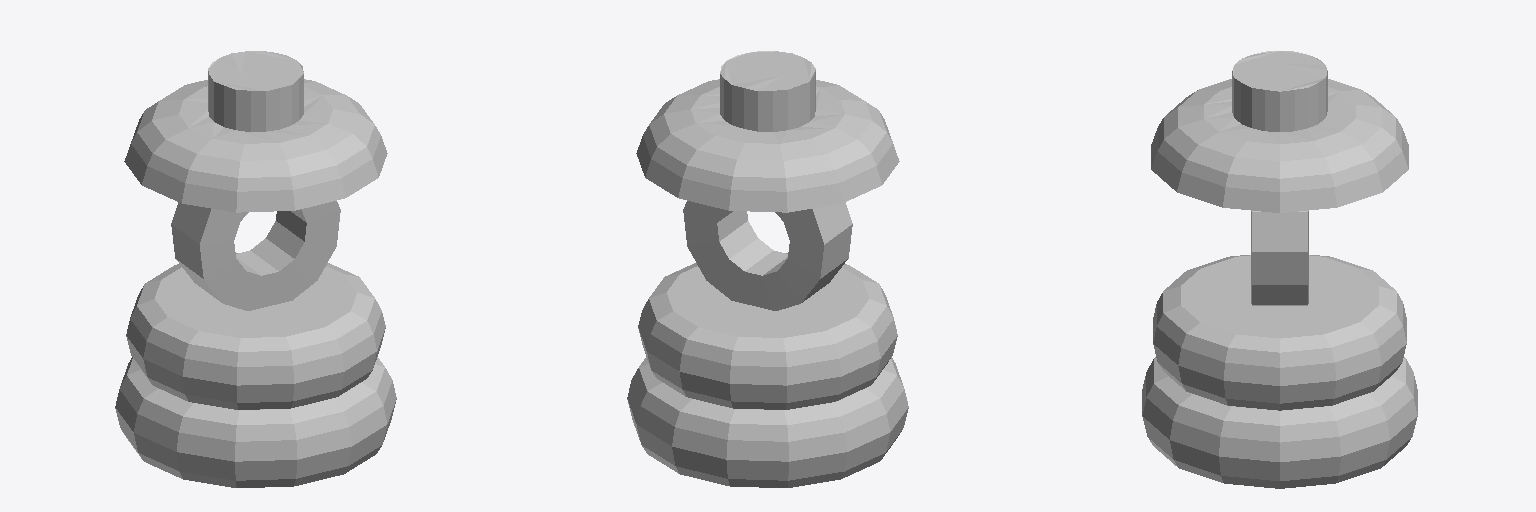
The model's file is stone art1.obj.
3 views of the same model, side by side, from view 1: azimuth 30°, elevation 25°; view 2: azimuth 150°, elevation 25°; view 3: azimuth 270°, elevation 25° (orthographic).
Parts seen in each view (by area): view 1: pTorus2; view 2: pTorus2; view 3: pTorus2.
Part boxes in pixels (x1,y1,x2,y2): pTorus2: (115,51,396,487); pTorus2: (627,51,908,487); pTorus2: (1142,51,1417,488).
Size of the model in its own units: 1.55 by 2.25 by 1.51.